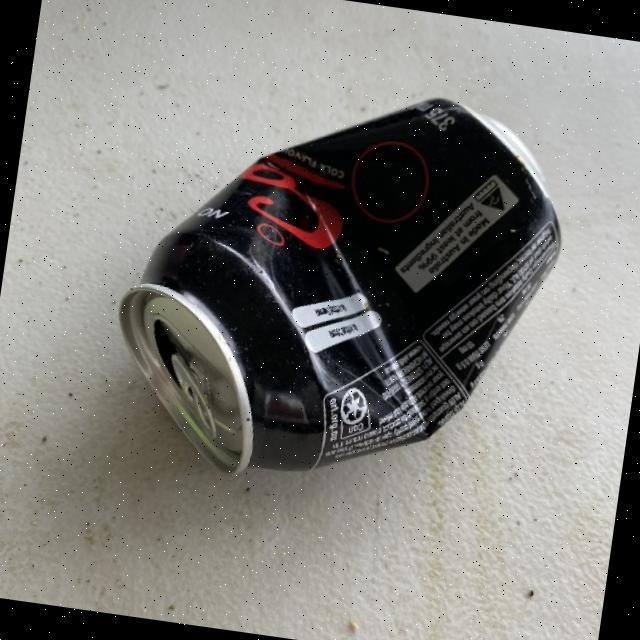metal: (98, 55, 580, 517)
